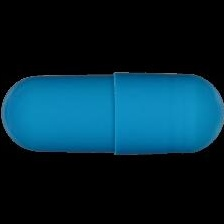10144-602: (0, 0, 224, 224)
